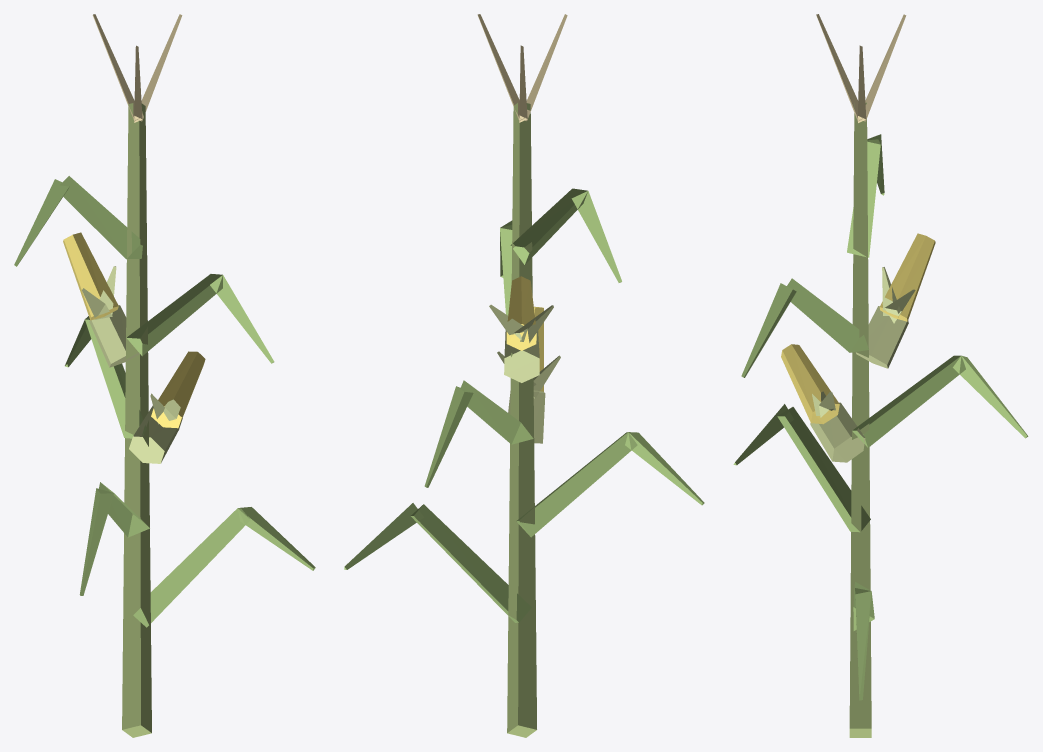
Rendered from field_corn_2.glb.
3 renders of one model, left to right at view 1: azimuth 30°, elevation 25°; view 2: azimuth 150°, elevation 25°; view 3: azimuth 270°, elevation 25°, orthographic.
Visible parts, largest first — view 1: Stalk, Leaf, Leaf#7, Leaf#9, Cob#2, Cob, Cob.Husk#4, Cob.Husk, Leaf#5, Leaf#4, Leaf#2, Leaf#8 (+4 smaller); view 2: Stalk, Leaf, Leaf#3, Leaf#9, Leaf#5, Cob#2, Leaf#6, Cob.Husk#4, Leaf#4, Leaf#10, Leaf#2, Leaf#7 (+3 smaller); view 3: Stalk, Leaf#3, Leaf#5, Leaf#7, Cob, Cob#2, Cob.Husk, Cob.Husk#4, Leaf#9, Leaf#2, Leaf#8, Leaf#6 (+3 smaller).
Part boxes in pixels (box(x1,y1,x2,y2)): Stalk: box(122, 103, 151, 737); Leaf: box(133, 508, 250, 627); Leaf#7: box(126, 274, 222, 356); Leaf#9: box(60, 176, 142, 259); Cob#2: box(63, 232, 118, 320); Cob: box(151, 351, 205, 428); Cob.Husk#4: box(89, 305, 139, 367); Cob.Husk: box(129, 405, 182, 463); Leaf#5: box(85, 318, 146, 438); Leaf#4: box(79, 488, 113, 595); Leaf#2: box(237, 507, 315, 570); Leaf#8: box(210, 275, 274, 363); Stalk: box(507, 103, 536, 737); Leaf: box(411, 504, 531, 622); Leaf#3: box(516, 432, 637, 537); Leaf#9: box(510, 188, 587, 264); Leaf#5: box(460, 380, 533, 444); Cob#2: box(506, 276, 536, 350); Leaf#6: box(424, 386, 473, 487); Cob.Husk#4: box(504, 330, 539, 382); Leaf#4: box(625, 432, 704, 505); Leaf#10: box(571, 191, 621, 282); Leaf#2: box(344, 503, 423, 569); Leaf#7: box(500, 225, 512, 315); Stalk: box(849, 102, 871, 737); Leaf#3: box(777, 407, 870, 532); Leaf#5: box(852, 355, 965, 447); Leaf#7: box(787, 278, 868, 352); Cob: box(781, 344, 839, 424); Cob#2: box(879, 233, 935, 321); Cob.Husk: box(810, 402, 865, 462); Cob.Husk#4: box(856, 306, 908, 368); Leaf#9: box(847, 139, 880, 257); Leaf#2: box(855, 588, 871, 700); Leaf#8: box(741, 283, 796, 377); Leaf#6: box(953, 356, 1028, 438).
Size of the model in its own units: 1.1 by 2.48 by 0.937.
